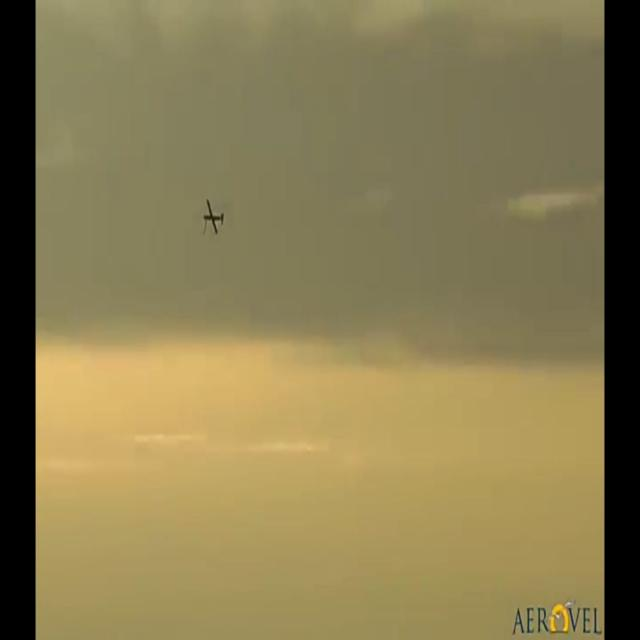iha: (203, 198, 224, 237)
